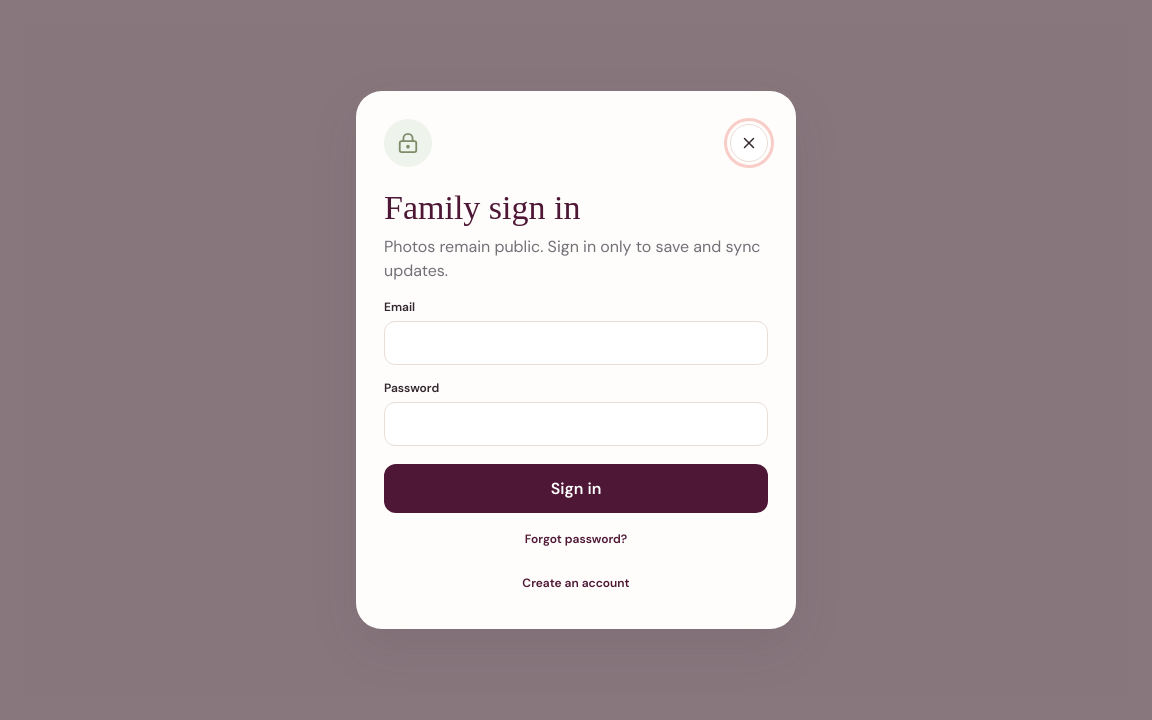
Scenario: AuthModal › requests a password reset without exposing the gallery
Click the button "Forgot password?" at (576, 539), box [384,521,768,557]
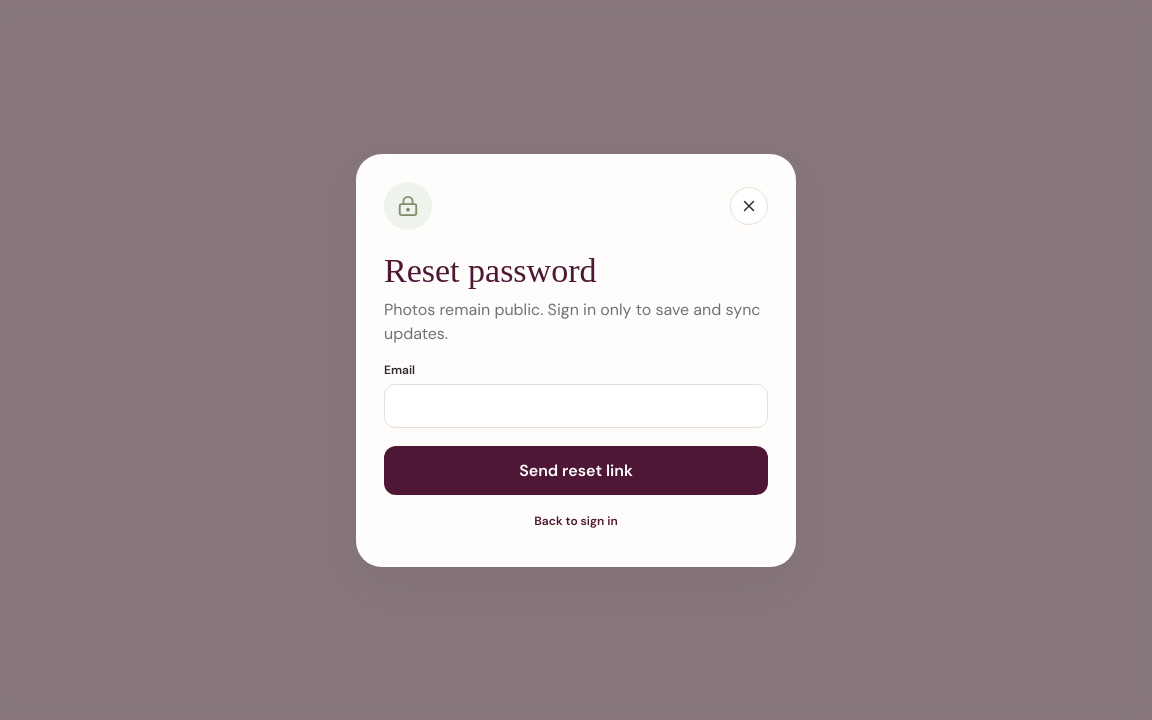
Type "family@example.com" into the field labelled "Email" at (576, 406), box [384,384,768,428]
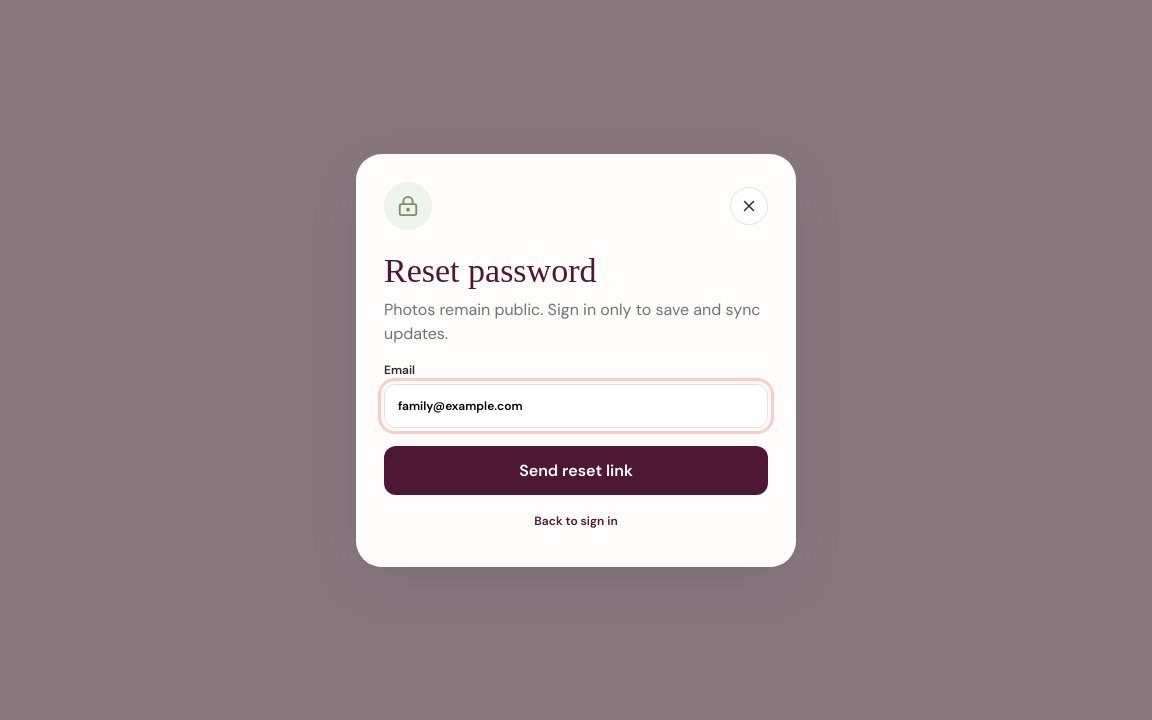
Click the button "Send reset link" at (576, 470), box [384,446,768,494]
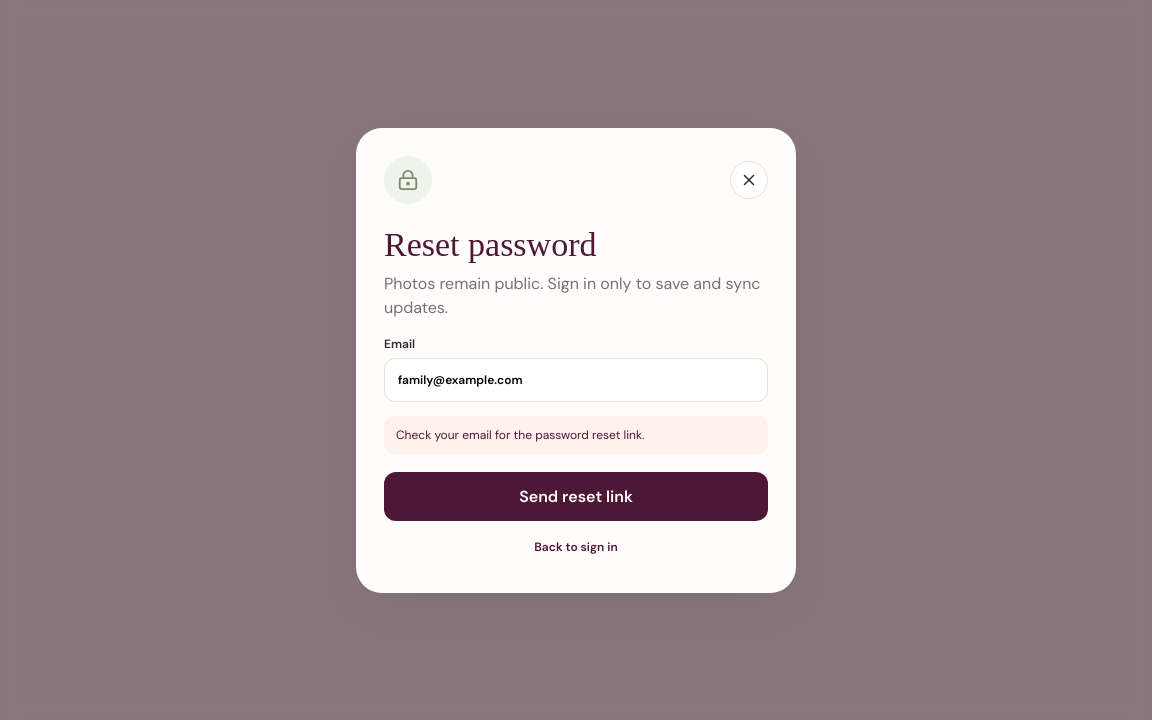
Result: the message shows "Check your email" at [396,426,644,442]
